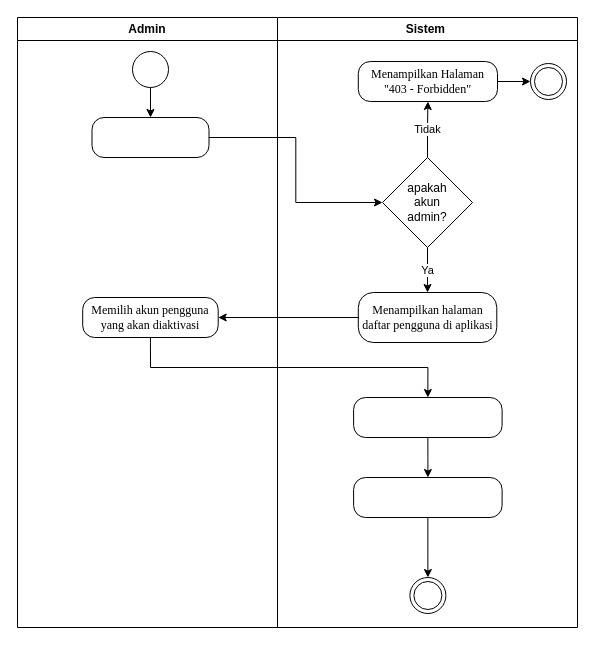
Image size: 595x645. Some labels were removed from this diagram. Each missing label, with the centre of its shape:
Memilih Menu Pengguna: the point at 150,137
Menampilkan Notifikasi Sukses: the point at 427,497
Menghapus Akun Pengguna yang dipilih: the point at 427,417
